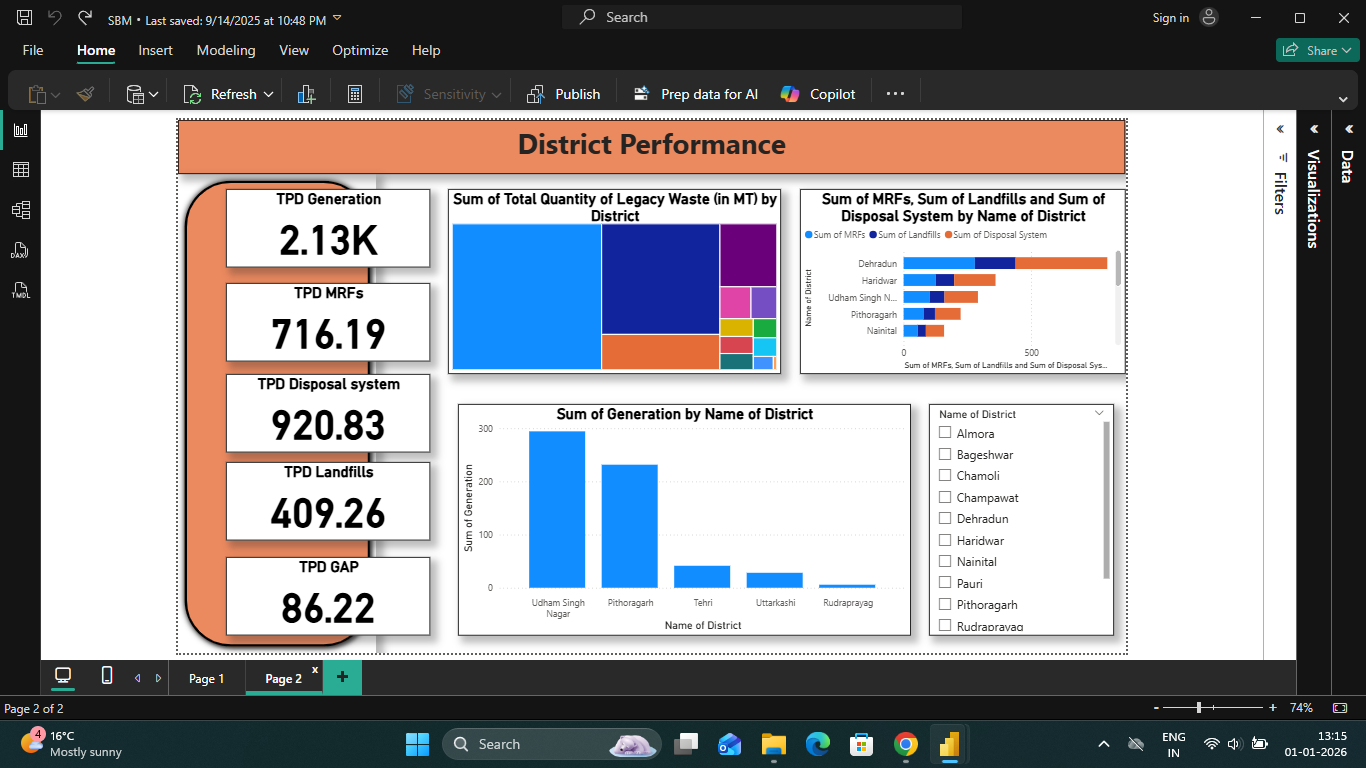

Layout of this report page (visuals, bound fields, positions):
{"tool":"powerbi","page":{"name":"Page 2","canvas":[1280,720],"ordinal":1},"visuals":[{"type":"textbox","box":[0,0,1280,73.3],"z":0},{"type":"shape","box":[0,73,268.3,647.6],"z":1000},{"type":"card","title":"TPD GAP","fields":{"Values":["Sum(District Wise Status of Municipal Solid Waste Management in Uttarakhand (Data in.GAP)"]},"box":[65.1,590.5,276.2,106.3],"z":2000},{"type":"card","title":"TPD MRFs","fields":{"Values":["Sum(District Wise Status of Municipal Solid Waste Management in Uttarakhand (Data in.MRFs)"]},"box":[65.1,220.6,276.2,106.3],"z":3000},{"type":"card","title":"TPD Disposal system","fields":{"Values":["Sum(District Wise Status of Municipal Solid Waste Management in Uttarakhand (Data in.Disposal System)"]},"box":[65.1,342.9,276.2,106.3],"z":4000},{"type":"card","title":"TPD Generation","fields":{"Values":["Sum(District Wise Status of Municipal Solid Waste Management in Uttarakhand (Data in.Generation)"]},"box":[65.1,93.7,276.2,106.3],"z":5000},{"type":"card","title":"TPD Landfills","fields":{"Values":["Sum(District Wise Status of Municipal Solid Waste Management in Uttarakhand (Data in.Landfills)"]},"box":[65.1,461.9,276.2,106.3],"z":6000},{"type":"columnChart","fields":{"Y":["Sum(District Wise Status of Municipal Solid Waste Management in Uttarakhand (Data in.Generation)"],"Category":["District Wise Status of Municipal Solid Waste Management in Uttarakhand (Data in.Name of District"]},"box":[378.3,383.3,611.7,313.3],"z":7000},{"type":"treemap","fields":{"Values":["Sum(District Wise Status of Dumpsite/Legacy Waste Sites in Uttarakhand.Total Quantity of Legacy Waste (in MT))"],"Group":["District Wise Status of Dumpsite/Legacy Waste Sites in Uttarakhand.District"]},"box":[365,93.3,450,250],"z":8000},{"type":"barChart","fields":{"Category":["District Wise Status of Municipal Solid Waste Management in Uttarakhand (Data in.Name of District"],"Y":["Sum(District Wise Status of Municipal Solid Waste Management in Uttarakhand (Data in.MRFs)","Sum(District Wise Status of Municipal Solid Waste Management in Uttarakhand (Data in.Landfills)","Sum(District Wise Status of Municipal Solid Waste Management in Uttarakhand (Data in.Disposal System)"]},"box":[840,93.3,440,250],"z":9000},{"type":"slicer","fields":{"Values":["District Wise Status of Municipal Solid Waste Management in Uttarakhand (Data in.Name of District"]},"box":[1015,383.3,250,313.3],"z":10000}]}

Visuals, with their boxes on the page's 1280x720 design canvas (x1, y1, x2, y2). These are canvas units, not pixel positions in the 1366x768 screenshot, which may show the page scaled, cropped or inside an application window:
textbox: box=[0, 0, 1280, 73]
shape: box=[0, 73, 268, 721]
"TPD GAP" card: box=[65, 590, 341, 697]
"TPD MRFs" card: box=[65, 221, 341, 327]
"TPD Disposal system" card: box=[65, 343, 341, 449]
"TPD Generation" card: box=[65, 94, 341, 200]
"TPD Landfills" card: box=[65, 462, 341, 568]
columnChart - Sum(District Wise Status of Municipal Solid Waste Management in Uttarakhand (Data in.Generation) x District Wise Status of Municipal Solid Waste Management in Uttarakhand (Data in.Name of District: box=[378, 383, 990, 697]
treemap - Sum(District Wise Status of Dumpsite/Legacy Waste Sites in Uttarakhand.Total Quantity of Legacy Waste (in MT)) x District Wise Status of Dumpsite/Legacy Waste Sites in Uttarakhand.District: box=[365, 93, 815, 343]
barChart - District Wise Status of Municipal Solid Waste Management in Uttarakhand (Data in.Name of District x Sum(District Wise Status of Municipal Solid Waste Management in Uttarakhand (Data in.MRFs): box=[840, 93, 1280, 343]
slicer - District Wise Status of Municipal Solid Waste Management in Uttarakhand (Data in.Name of District: box=[1015, 383, 1265, 697]
